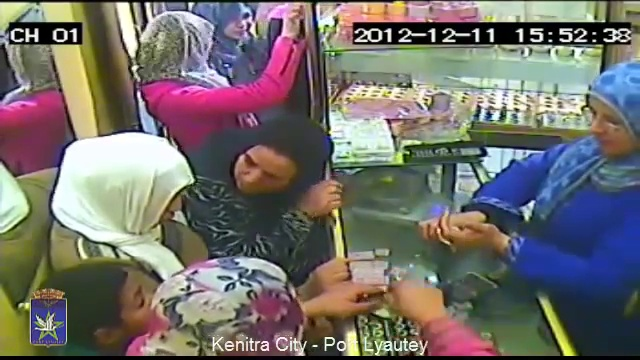face: (582, 84, 632, 157), (225, 143, 293, 190), (208, 7, 253, 38)
